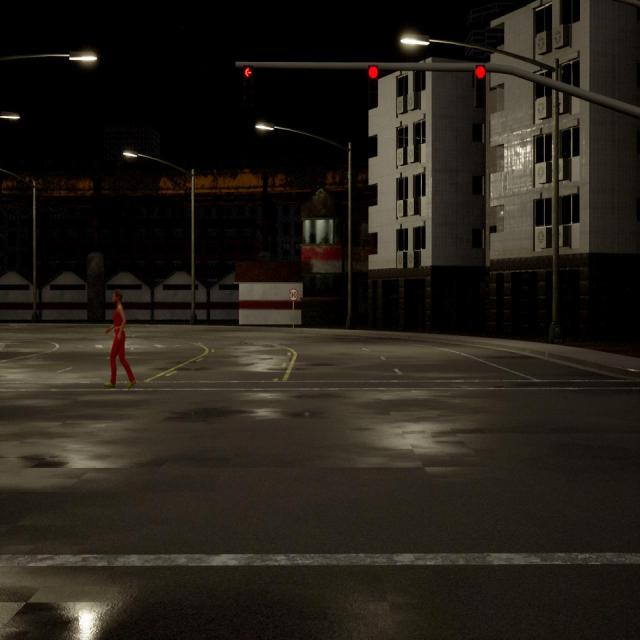Pedestrian: (104, 289, 136, 388)
Traffic_Signs: (290, 289, 298, 300)
traffic_light: (476, 64, 486, 107), (368, 65, 378, 101), (244, 65, 252, 101)
